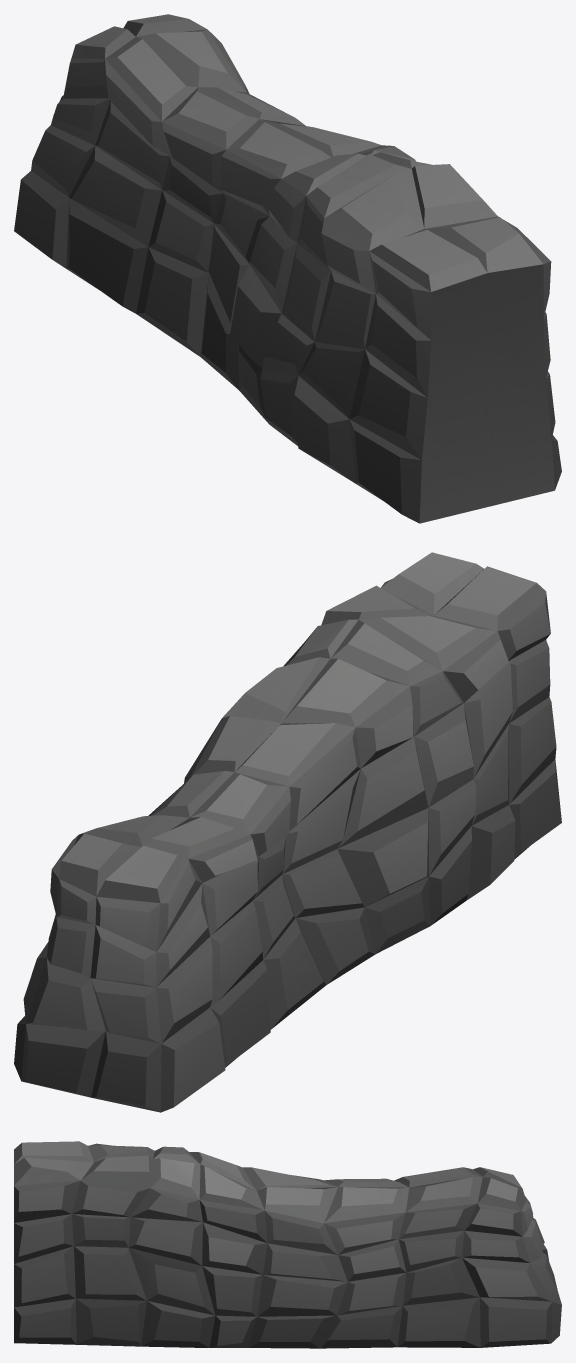
The model's file is StoneWall_04.fbx.
3 renders of one model, top to bottom at view 1: azimuth 30°, elevation 25°; view 2: azimuth 150°, elevation 25°; view 3: azimuth 270°, elevation 25°, orthographic. The views are drawn at different scales.
Visible parts, largest first — view 1: Cube.016; view 2: Cube.016; view 3: Cube.016.
Boxes of the visible parts, x1,y1,x2,y2 form: Cube.016: [14, 14, 561, 523]; Cube.016: [14, 552, 561, 1112]; Cube.016: [14, 1141, 561, 1348].
Bounding box in the file's own units: 5.59 × 1.97 × 1.54.
